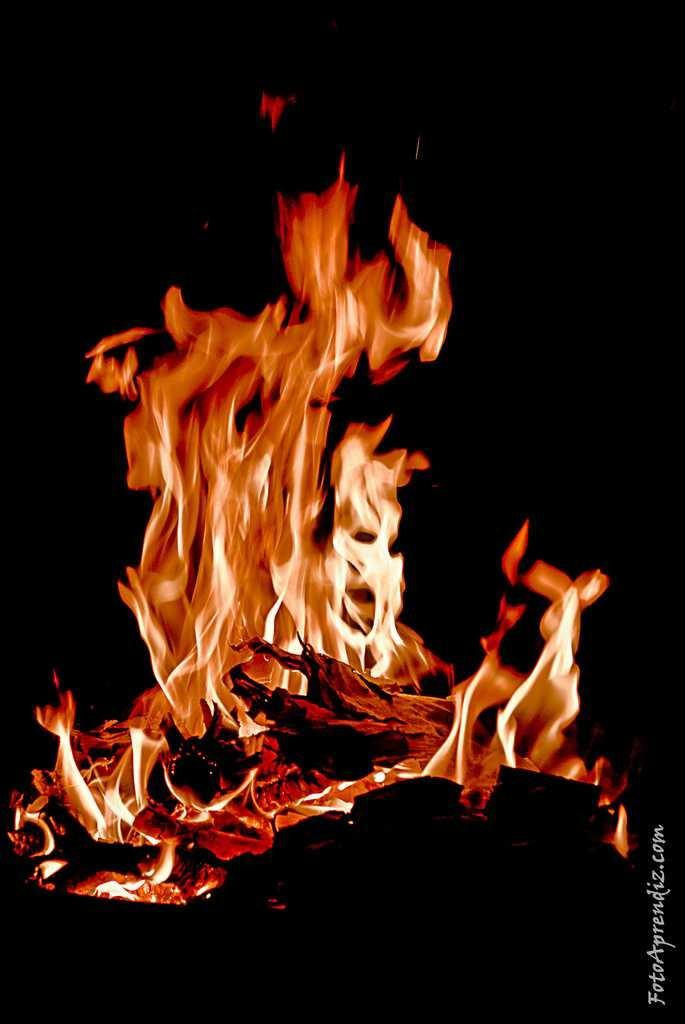fire: (140, 322, 420, 678)
